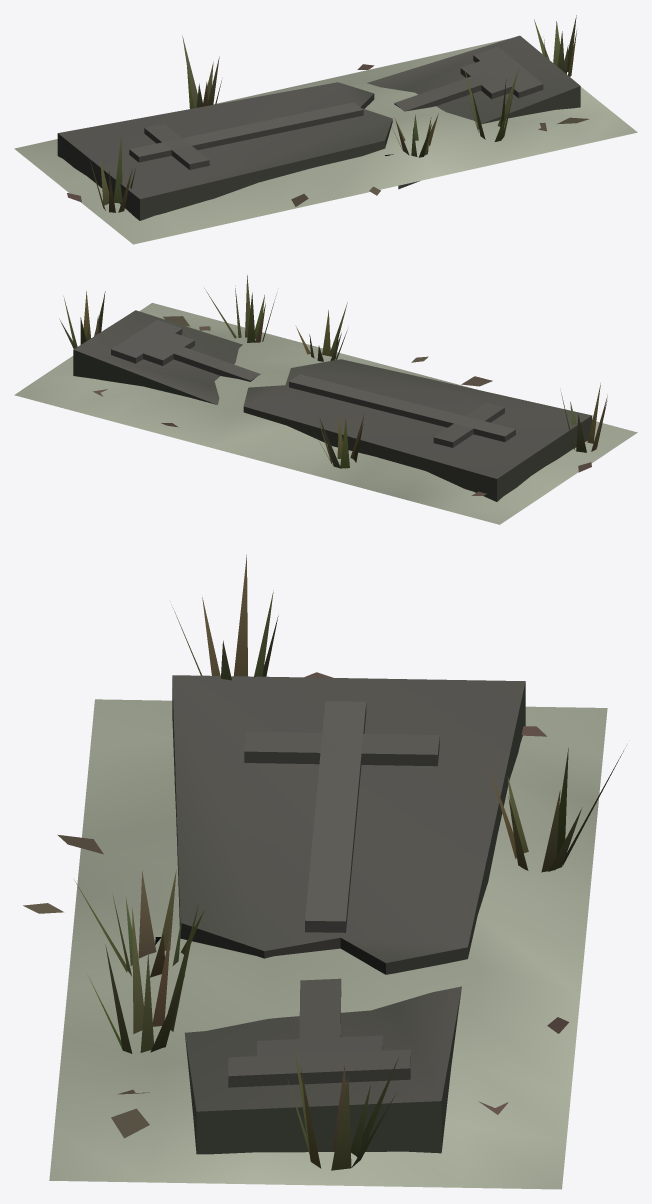
File: prop_grave_slab.glb
3 renders of one model, top to bottom at view 1: azimuth 30°, elevation 25°; view 2: azimuth 150°, elevation 25°; view 3: azimuth 270°, elevation 25°, orthographic. The views are drawn at different scales.
Parts seen in each view (by area): view 1: GraveSlab, GraveSlabSoft; view 2: GraveSlab, GraveSlabSoft; view 3: GraveSlab, GraveSlabSoft.
Boxes of the visible parts, box(x1,y1,x2,y2) form: GraveSlab: box(57, 15, 589, 220); GraveSlabSoft: box(14, 39, 637, 244); GraveSlab: box(59, 275, 607, 501); GraveSlabSoft: box(14, 303, 637, 524); GraveSlab: box(23, 554, 626, 1170); GraveSlabSoft: box(49, 699, 607, 1189).
Bounding box in the file's own units: 2.09 × 0.3932 × 1.06.
